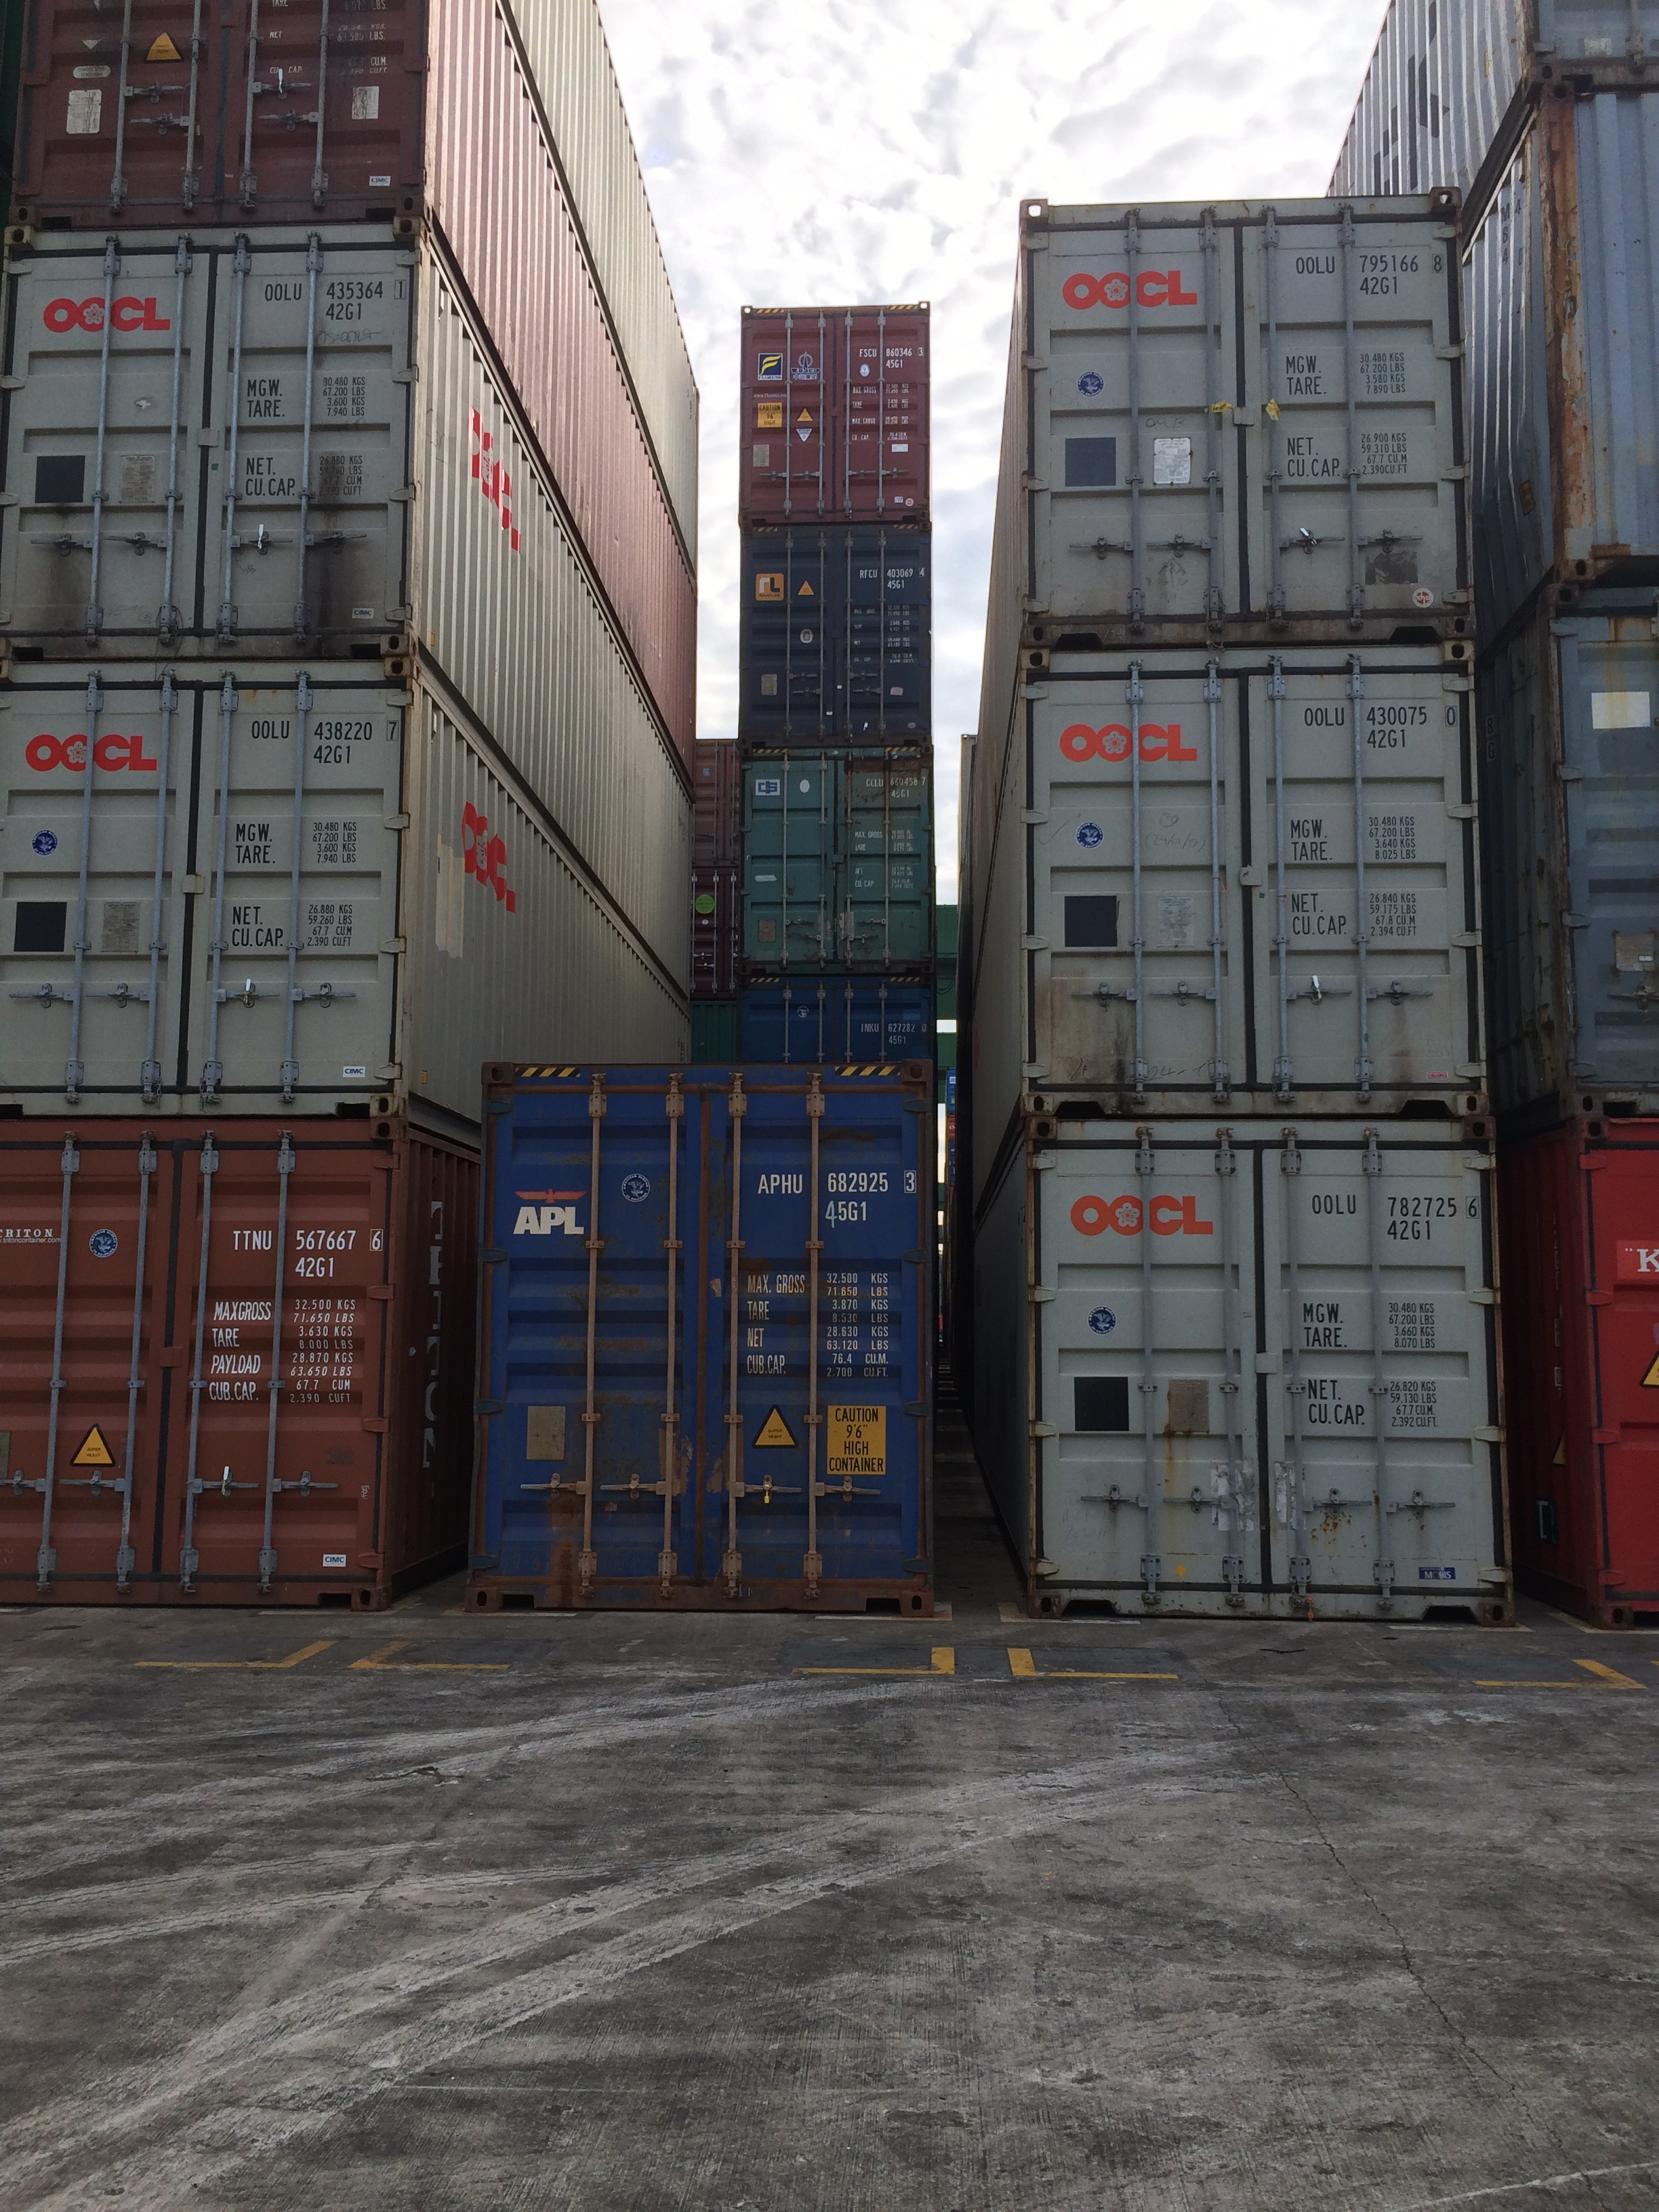container_door: (491, 1064, 939, 1602), (1046, 641, 1486, 1137), (1054, 1129, 1495, 1623), (1028, 202, 1469, 631), (0, 1120, 382, 1602), (0, 655, 397, 1109), (0, 247, 411, 639), (744, 733, 931, 967), (741, 517, 931, 725), (742, 303, 931, 510)
